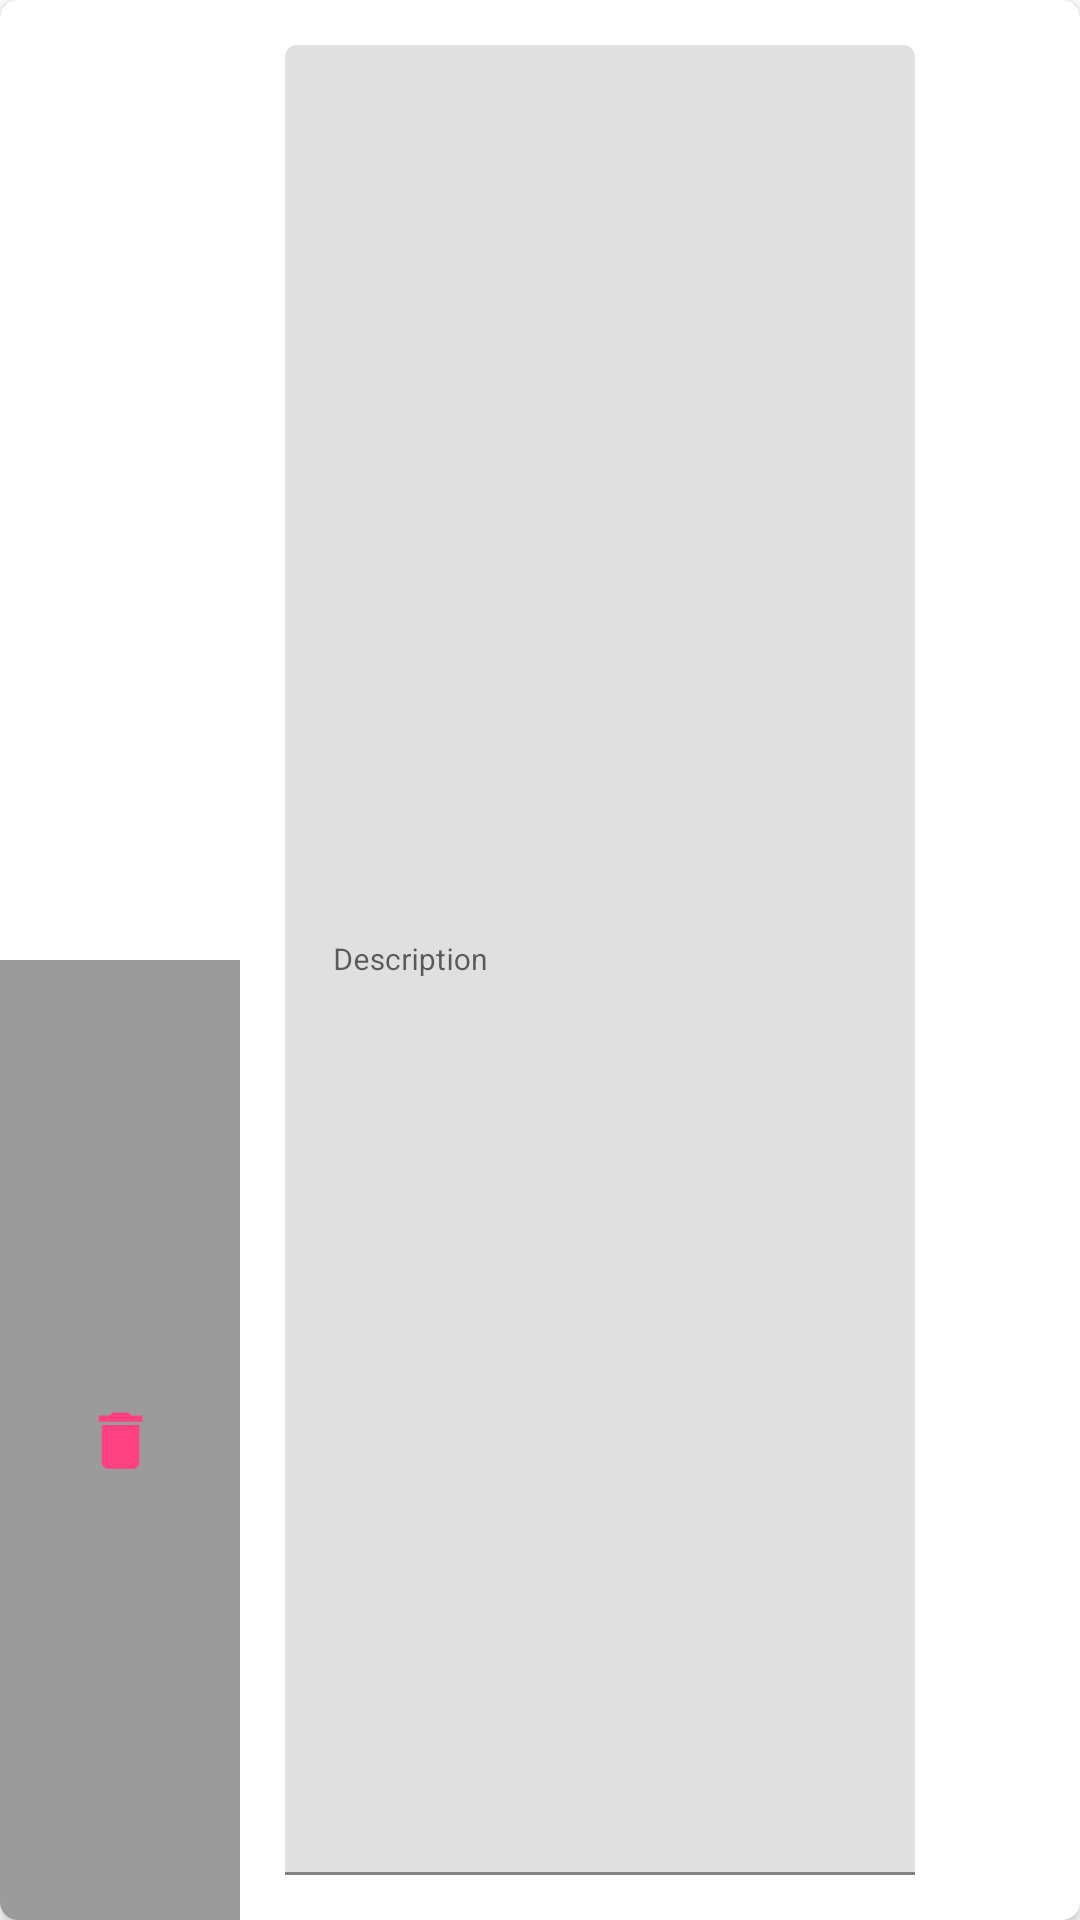

Point at icon controls on the screen. Image size 1080*1920, points as (x,y).
delete: (120,1440)
